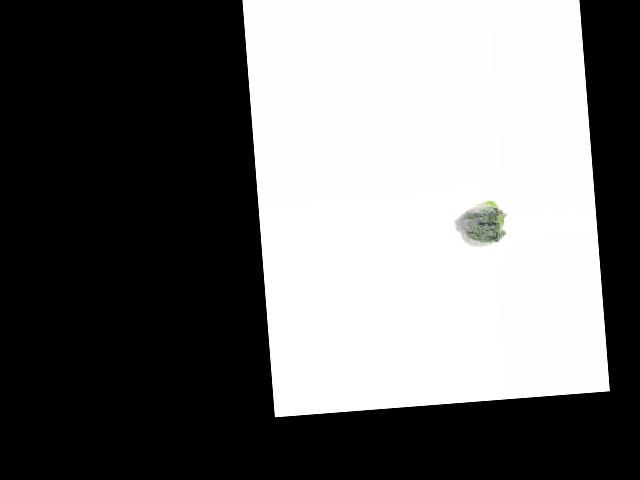lettuce: (453, 197, 508, 250)
